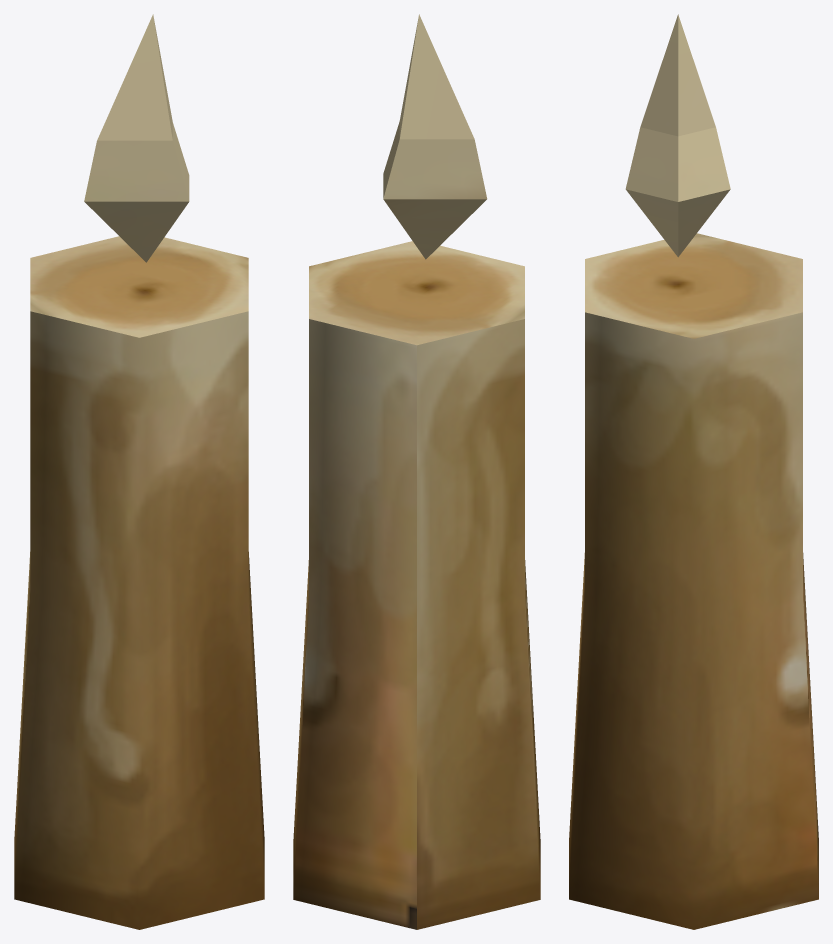
The model's file is candle_01.FBX.
3 views of the same model, side by side, from view 1: azimuth 30°, elevation 25°; view 2: azimuth 150°, elevation 25°; view 3: azimuth 270°, elevation 25° (orthographic).
Parts seen in each view (by area): view 1: candle_01; view 2: candle_01; view 3: candle_01.
Part boxes in pixels (x1,y1,x2,y2): candle_01: (14, 14, 264, 929); candle_01: (293, 14, 540, 929); candle_01: (569, 14, 818, 929).
Size of the model in its own units: 0.2836 by 0.9308 by 0.2456.
